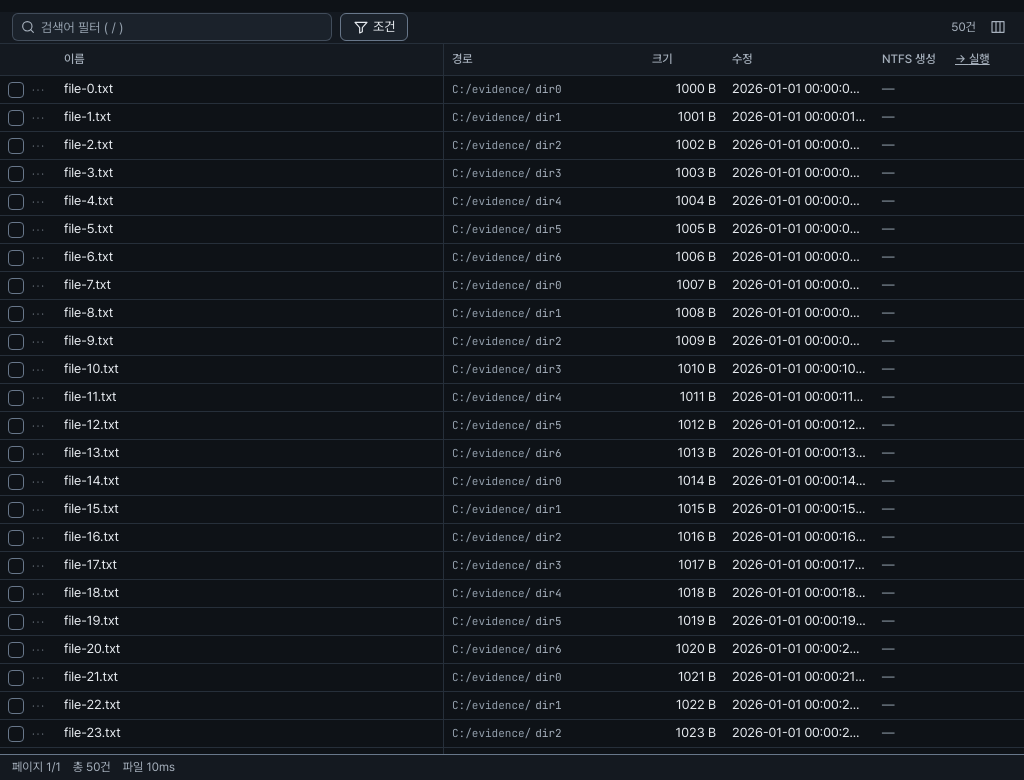
Test: DataGrid filter › shows an empty message when nothing matches
In the search field with placeholder "검색어 필터 ( / )": coordinates (172, 27) [12,13,332,41], type "zzzz-no-match"
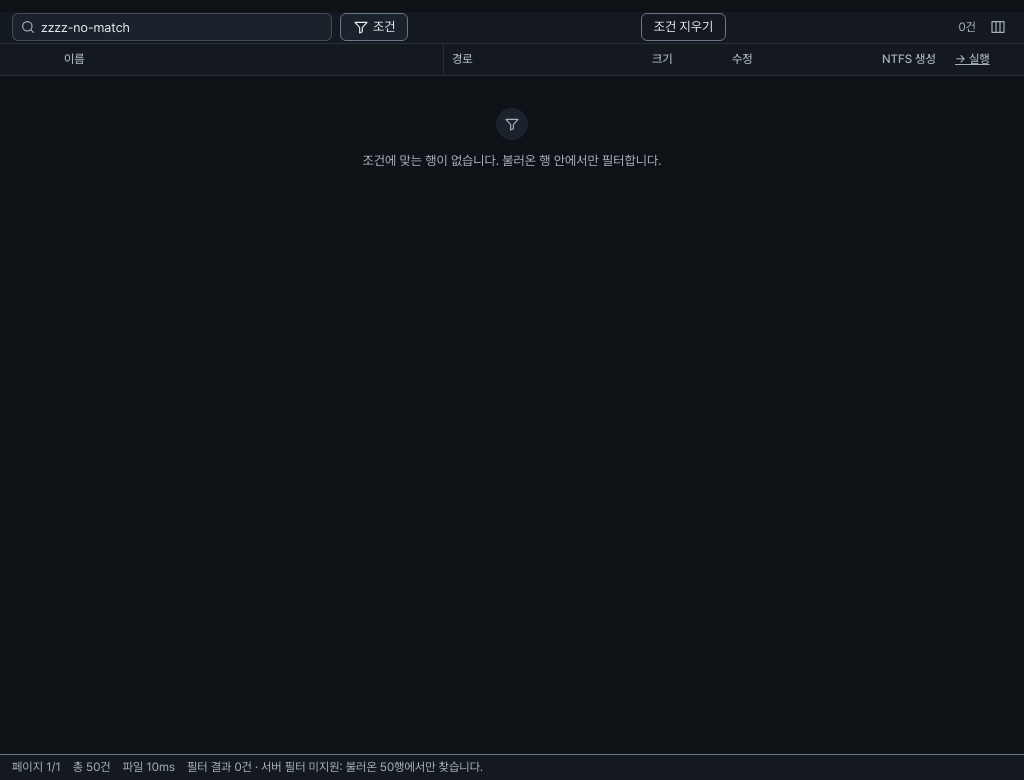
Expected: the text "조건에 맞는 행이 없습니다. 불러온 행 안에서만 필터합니다." is shown, [362,152,662,170]
